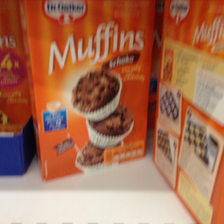cake: (23, 1, 157, 180)
